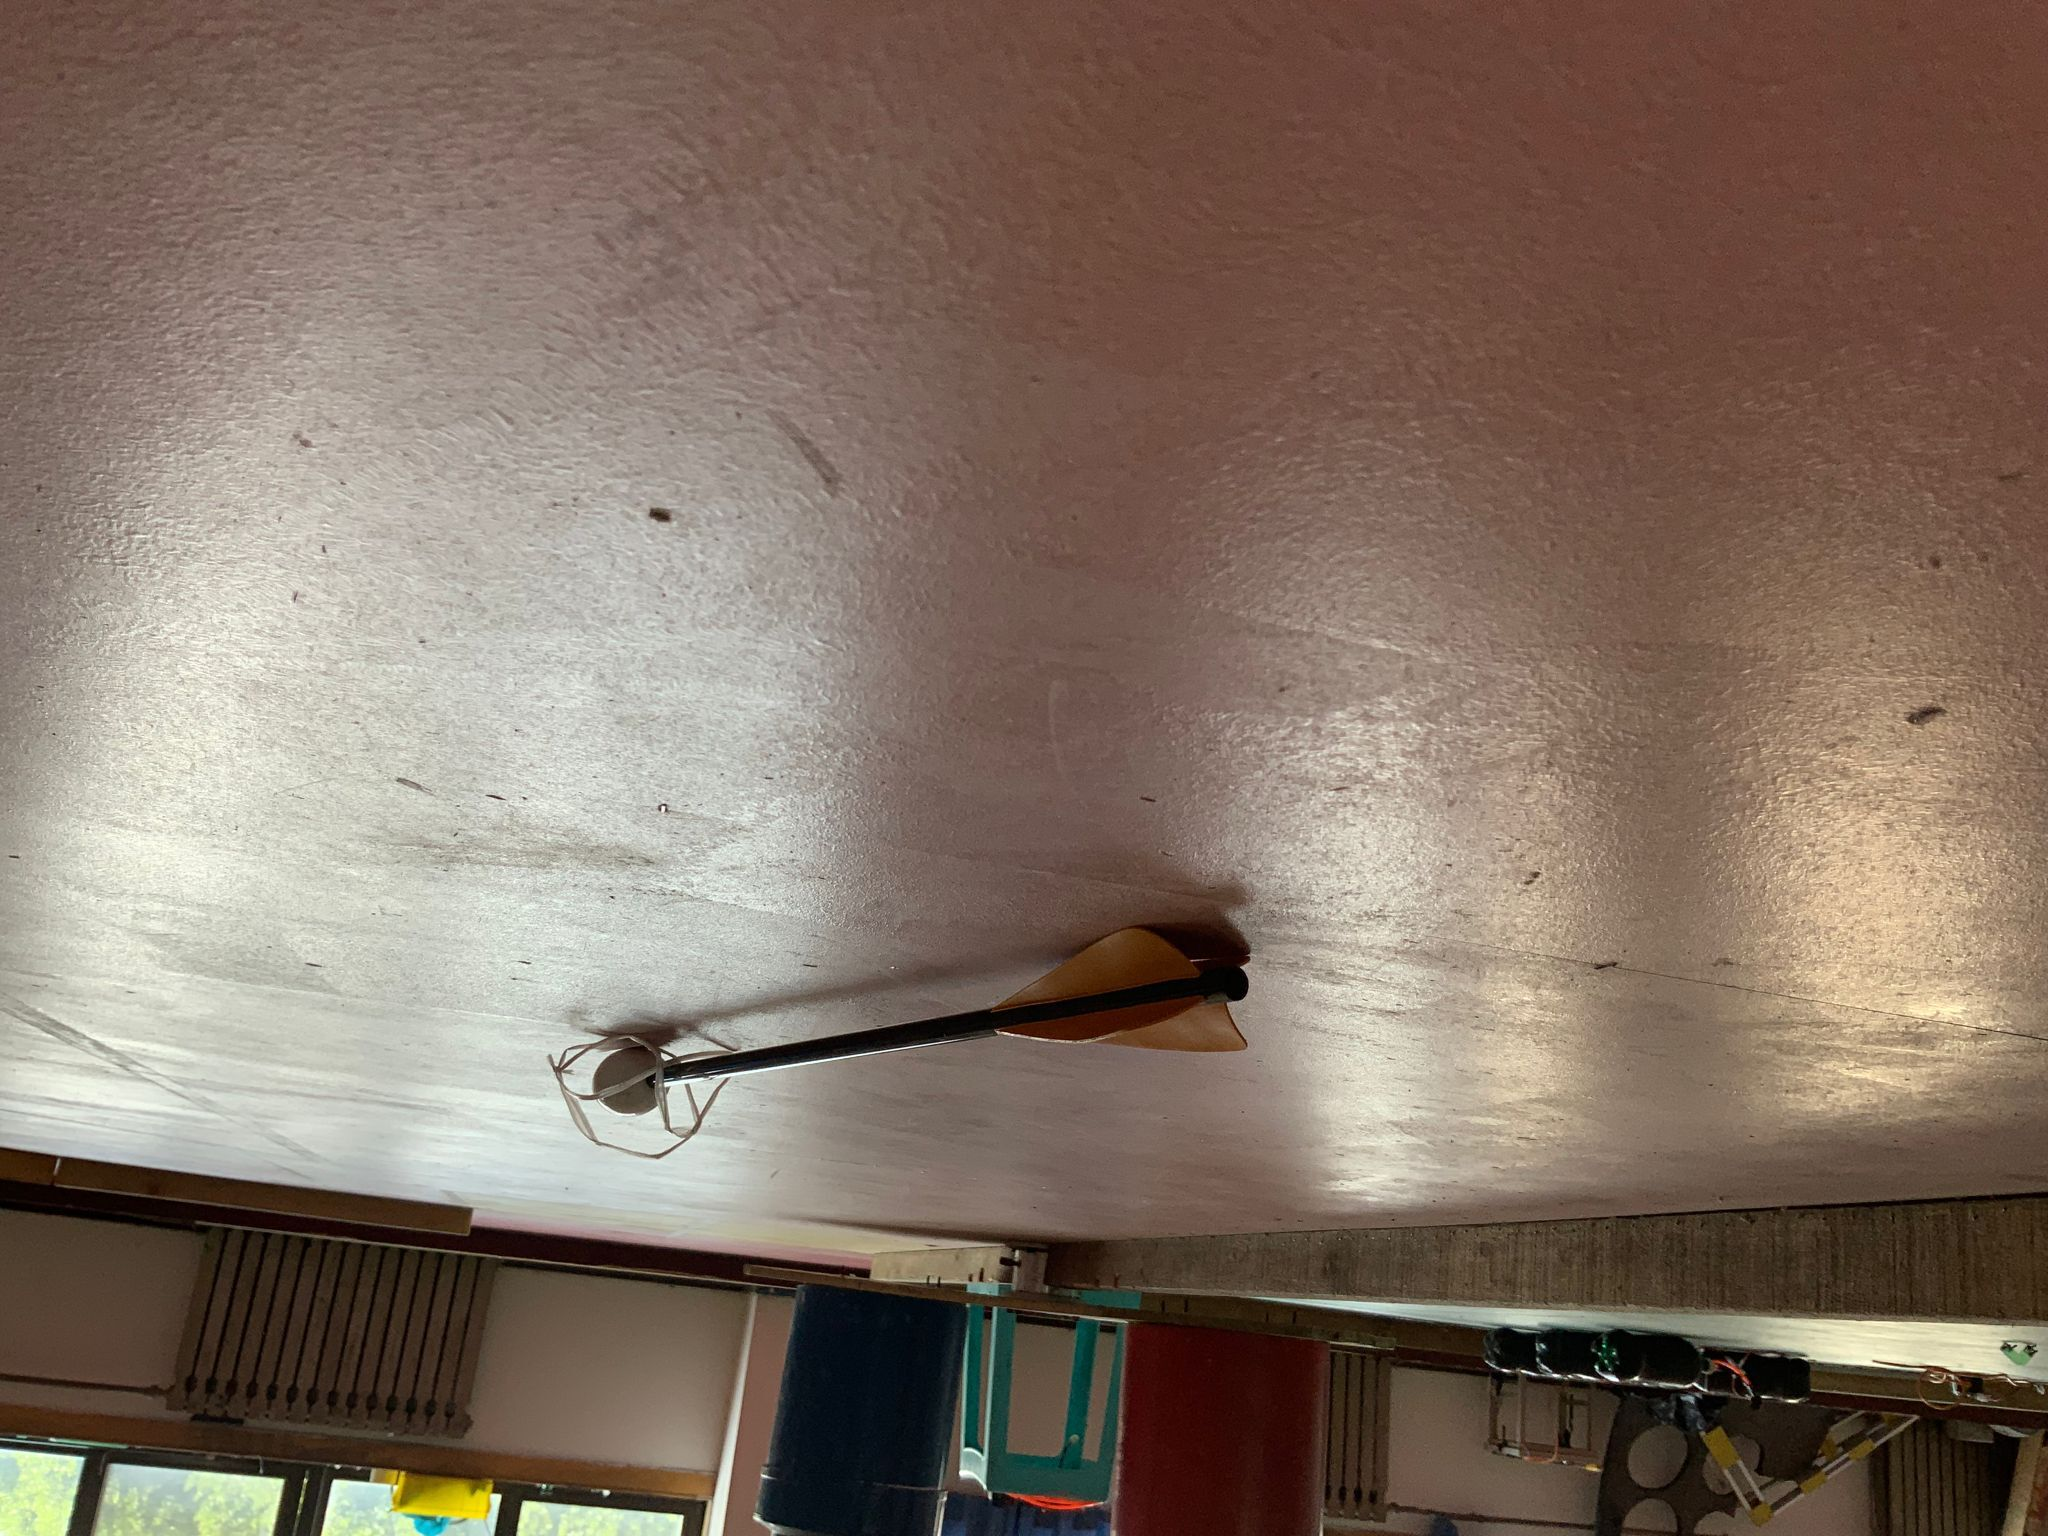arrow: (590, 926, 1250, 1118)
